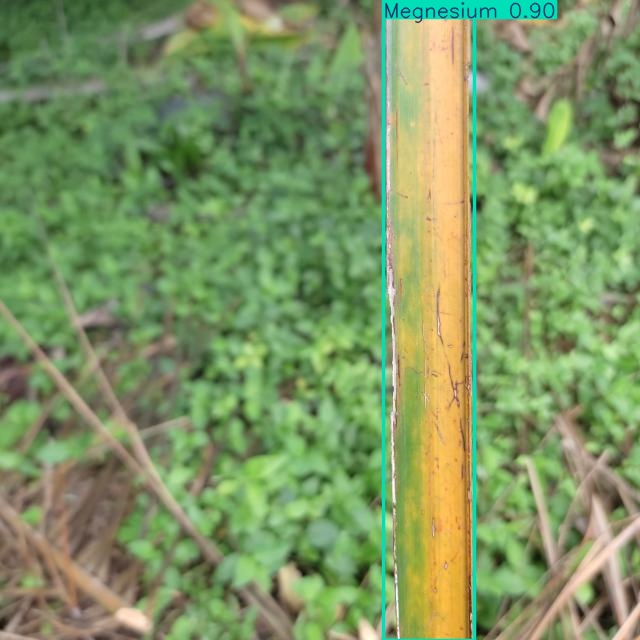Megnesium: (384, 0, 474, 640)
